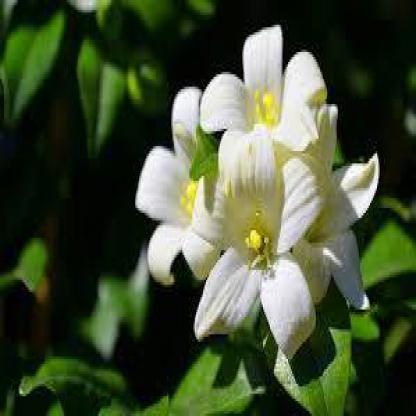Melati: (111, 23, 402, 348)
